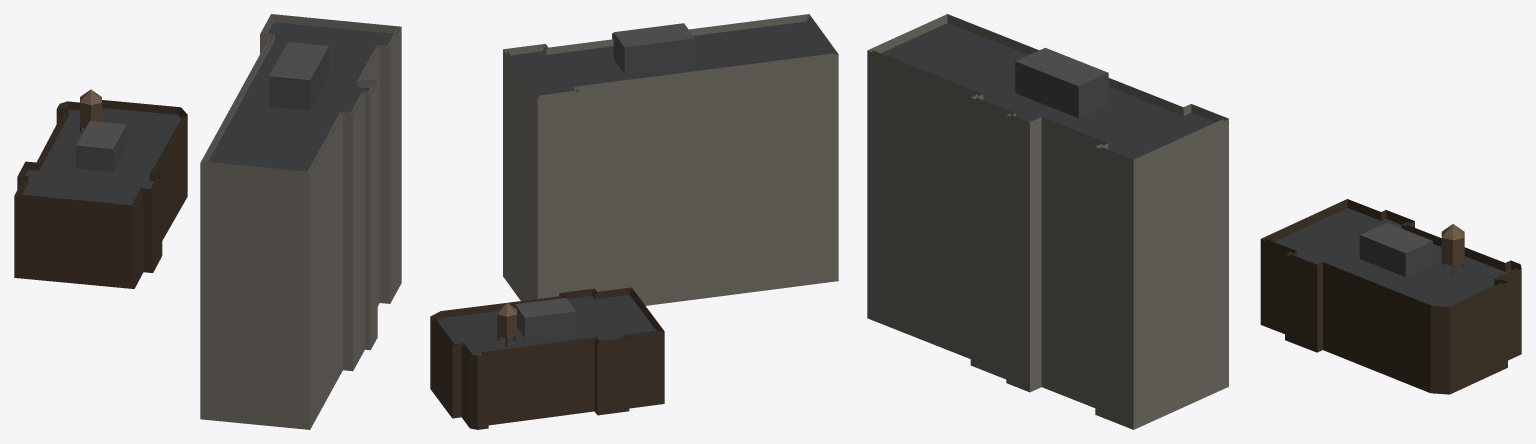
Rendered from manhattan_+04_-01.glb.
3 views of the same model, side by side, from view 1: azimuth 30°, elevation 25°; view 2: azimuth 150°, elevation 25°; view 3: azimuth 270°, elevation 25° (orthographic). The views are drawn at different scales.
Parts seen in each view (by area): view 1: BLD_midrise_+04_-01, BLD_lowrise_+04_-01; view 2: BLD_midrise_+04_-01, BLD_lowrise_+04_-01; view 3: BLD_midrise_+04_-01, BLD_lowrise_+04_-01.
Part boxes in pixels (x1,y1,x2,y2): BLD_midrise_+04_-01: (200, 14, 401, 429); BLD_lowrise_+04_-01: (14, 89, 187, 288); BLD_midrise_+04_-01: (503, 14, 838, 305); BLD_lowrise_+04_-01: (430, 287, 664, 429); BLD_midrise_+04_-01: (867, 14, 1228, 429); BLD_lowrise_+04_-01: (1260, 199, 1521, 394).
Bounding box in the file's own units: 50.14 × 46.31 × 93.66.
